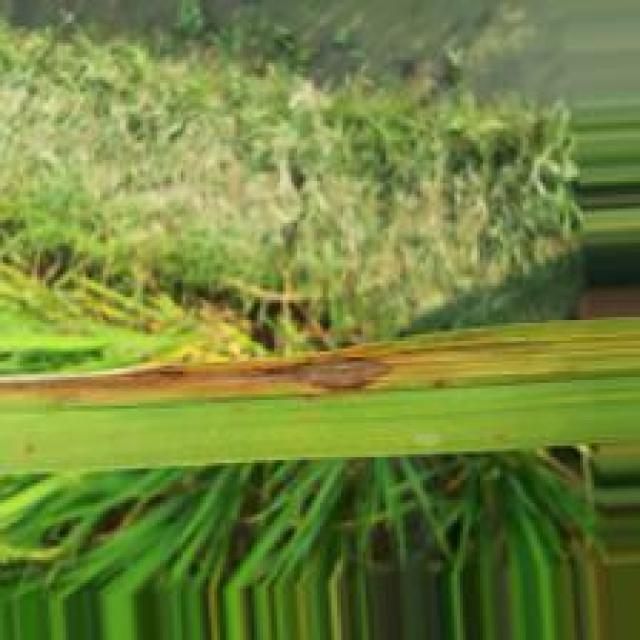Leaf_Blast: (0, 344, 410, 408)
